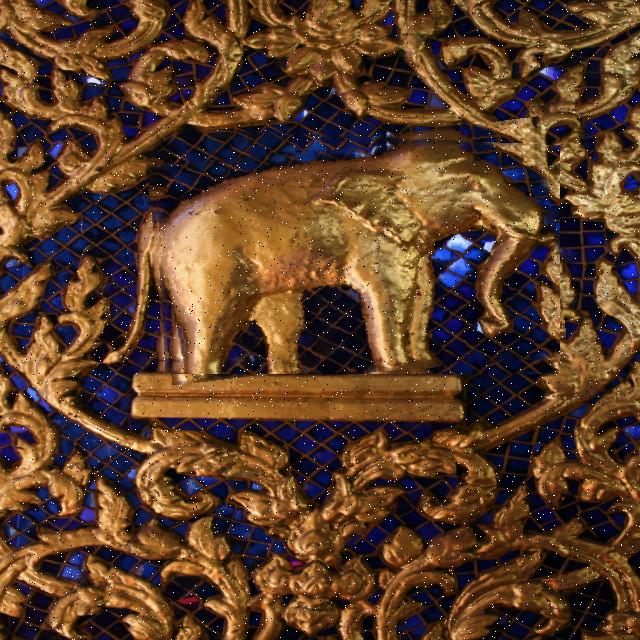elephant: (151, 127, 560, 374)
